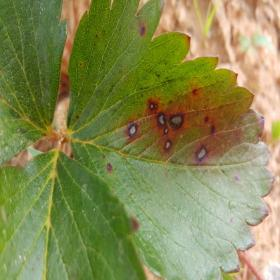Leaf Spot: (66, 0, 274, 279)
